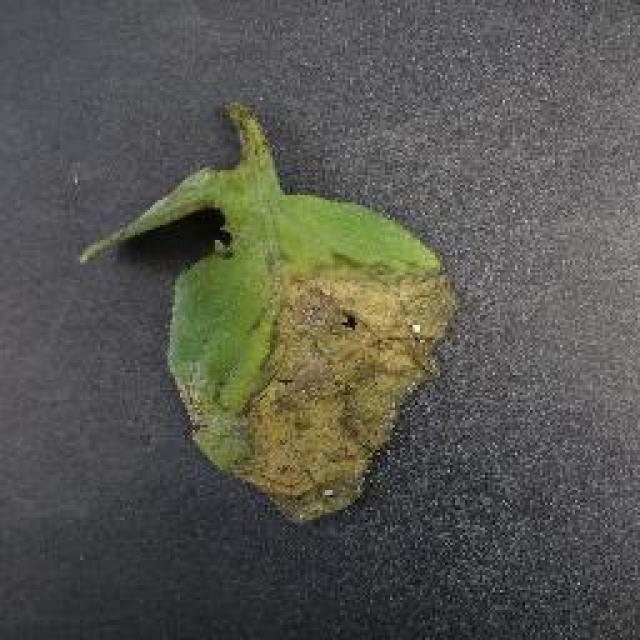Tomato_Late_Blight: (243, 234, 455, 518)
